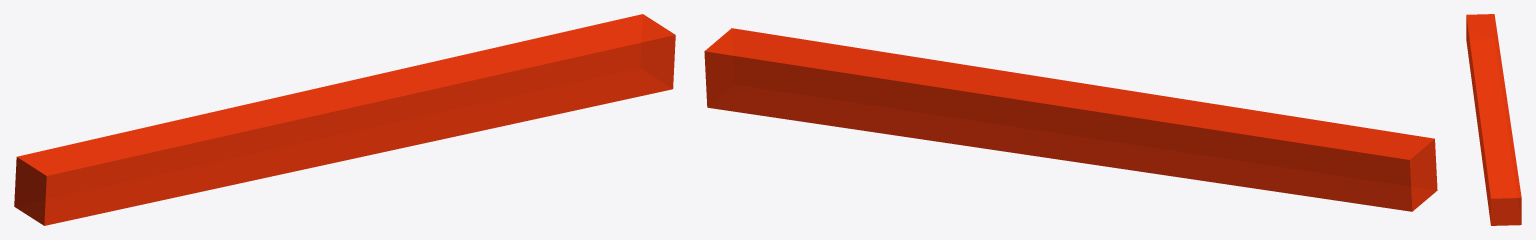
File: Event_421556567_EErechit_75.fbx
The picture shows the model from 3 angles, left to right: view 1: azimuth 30°, elevation 25°; view 2: azimuth 150°, elevation 25°; view 3: azimuth 270°, elevation 25°; orthographic projection. The views are drawn at different scales.
Parts seen in each view (by area): view 1: Model; view 2: Model; view 3: Model.
Part boxes in pixels (x1=…): Model: x1=14, y1=14, x2=675, y2=225; Model: x1=704, y1=28, x2=1437, y2=211; Model: x1=1466, y1=14, x2=1521, y2=225.
Size of the model in its own units: 1.01 by 0.1311 by 0.1421.
